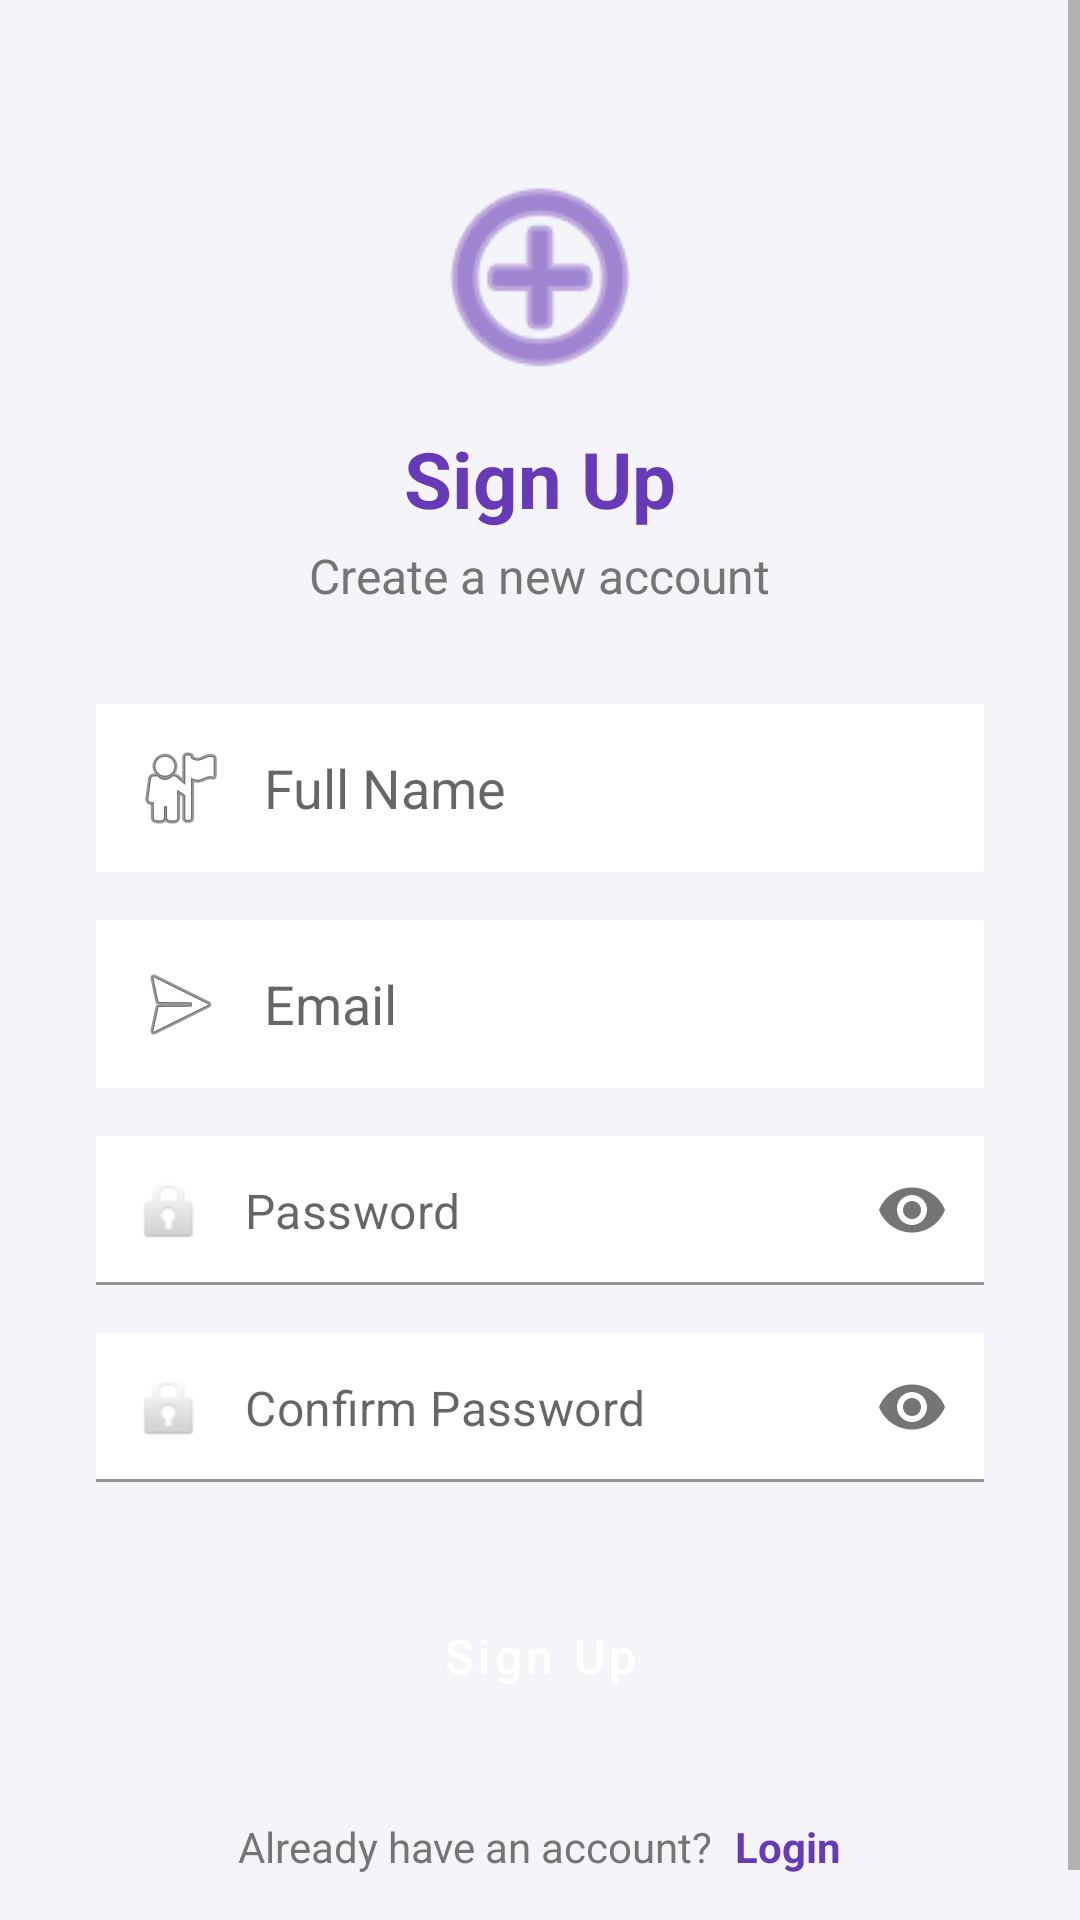

Where icons sit on this 1080 x 1920 app screen, as {"x1": x1, "y1": y1, "x2": x2, "y2": y2}:
add: {"x1": 451, "y1": 188, "x2": 629, "y2": 366}
